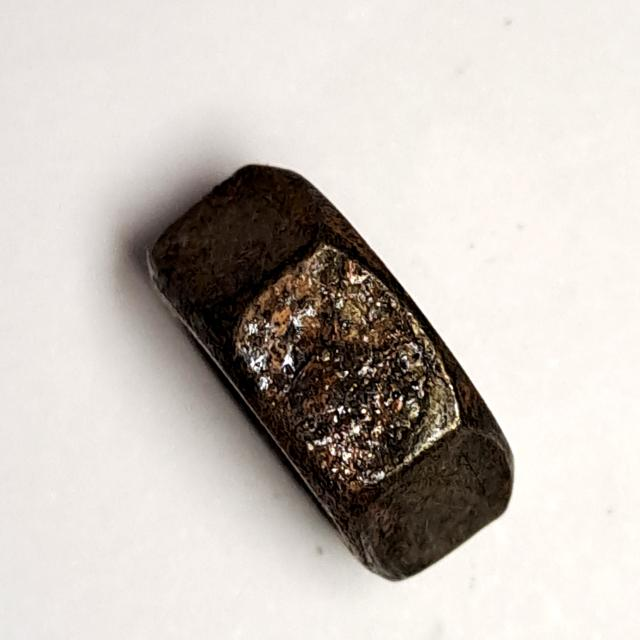Side_Rust: (122, 143, 535, 606)
